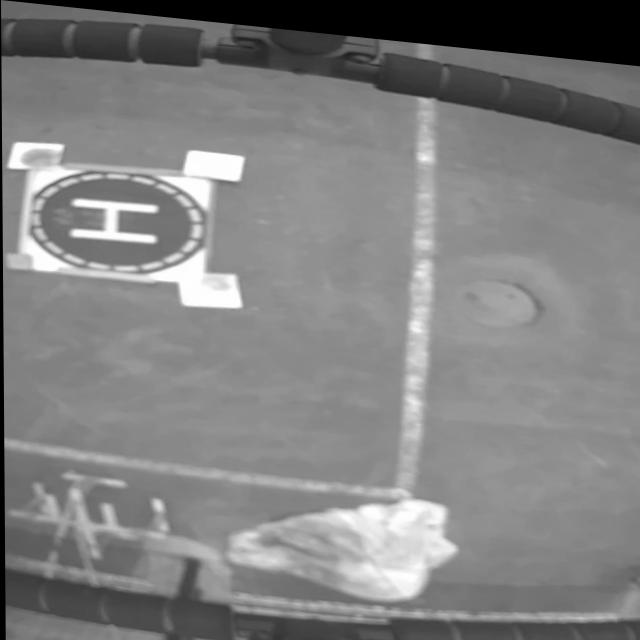Helipad: (68, 196, 158, 242)
